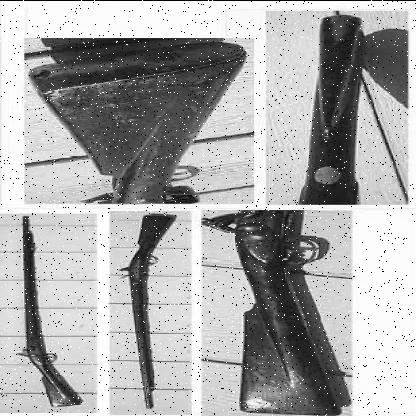rifle: (207, 213, 366, 416), (1, 214, 100, 409), (104, 209, 199, 410)
